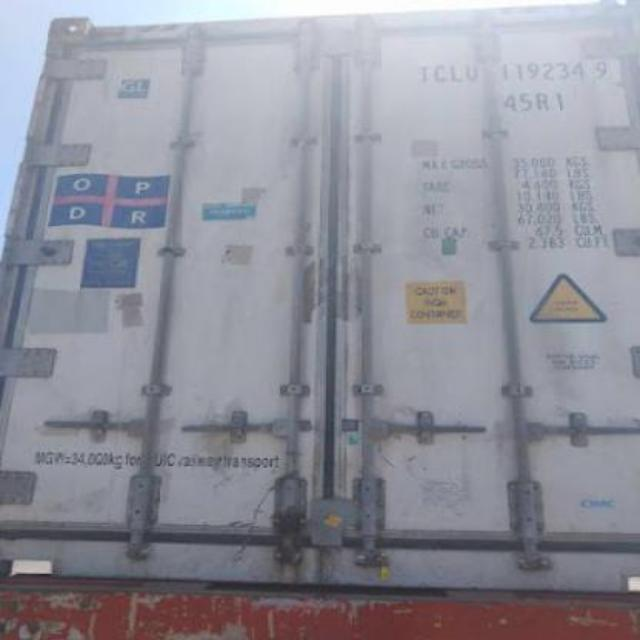1: (498, 60, 512, 82), (516, 61, 524, 84)
2: (544, 62, 556, 82)
3: (556, 60, 570, 80)
4: (574, 59, 586, 80)
9: (592, 57, 612, 83), (528, 62, 540, 82)
C: (434, 64, 448, 84)
L: (451, 64, 464, 82)
T: (418, 62, 432, 84)
U: (466, 62, 479, 82)
